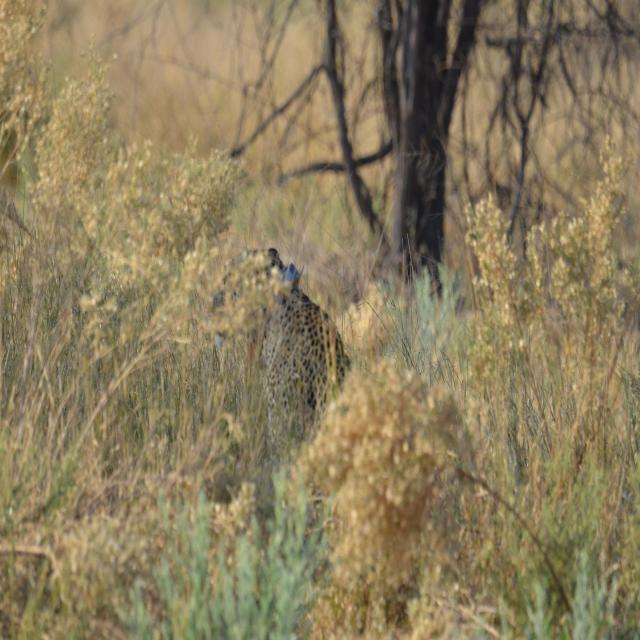Leopard: (209, 228, 356, 470)
